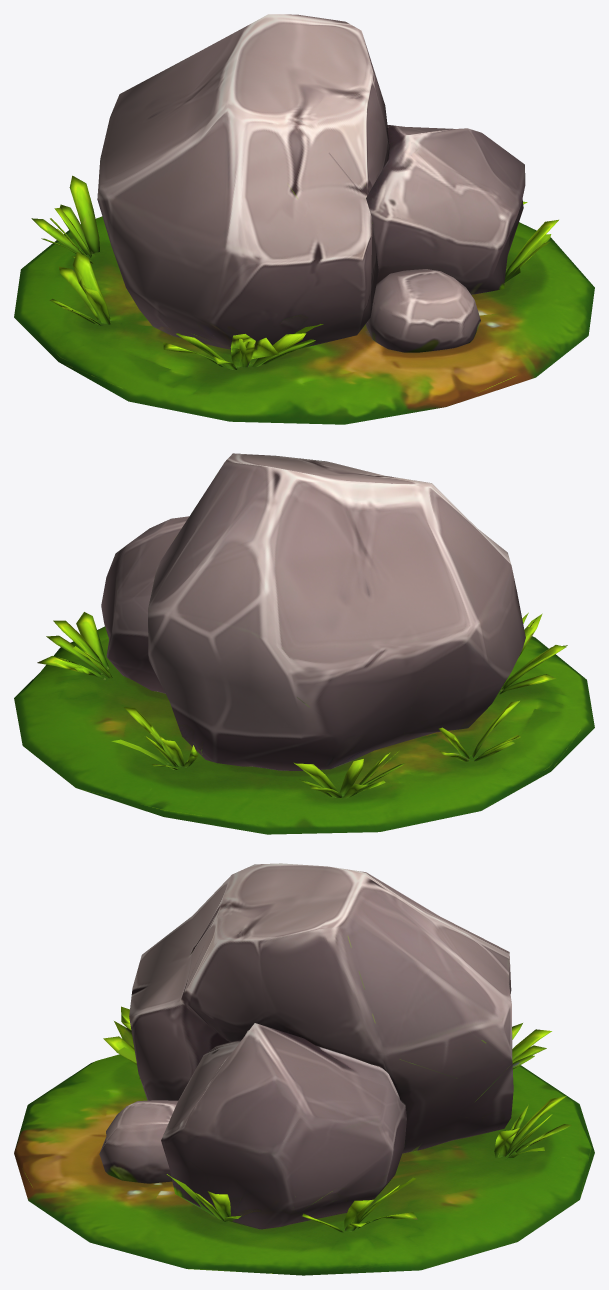
Rendered from etapa75.glb.
3 views of the same model, one above another, from view 1: azimuth 30°, elevation 25°; view 2: azimuth 150°, elevation 25°; view 3: azimuth 270°, elevation 25° (orthographic). The views are drawn at different scales.
Bounding box in the file's own units: 1 × 0.524 × 1.
Materials: 1 (1 with a texture image).
